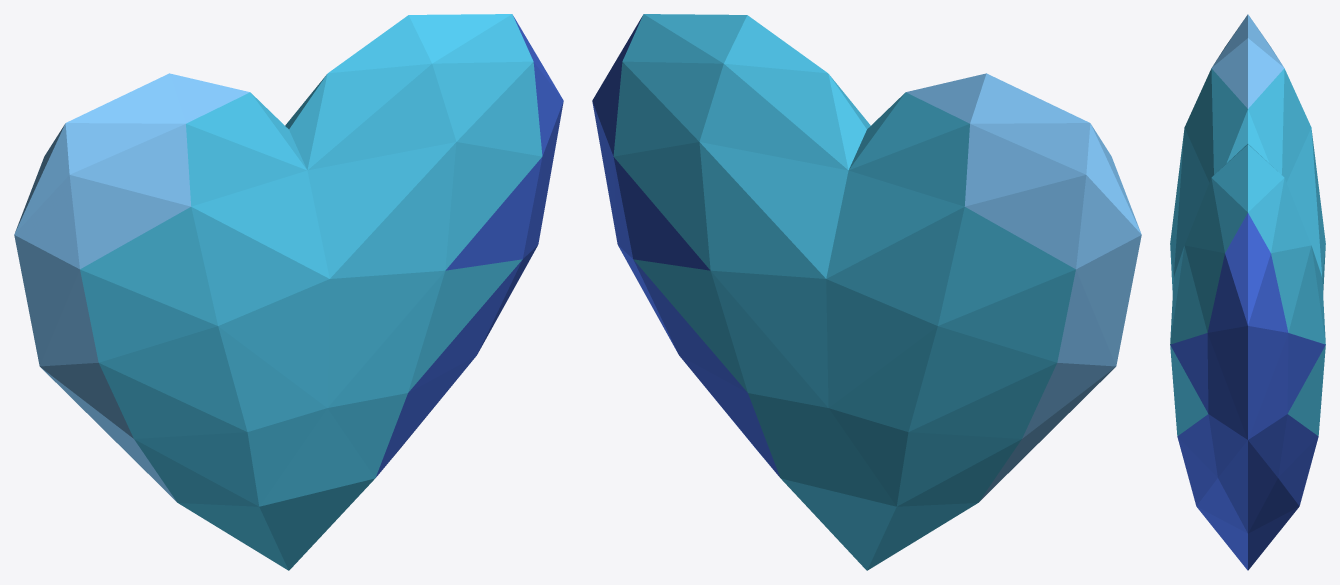
Rendered from blueheart.glb.
3 renders of one model, left to right at view 1: azimuth 30°, elevation 25°; view 2: azimuth 150°, elevation 25°; view 3: azimuth 270°, elevation 25°, orthographic. The views are drawn at different scales.
Parts seen in each view (by area): view 1: Cube; view 2: Cube; view 3: Cube.
Boxes of the visible parts, x1=… form: Cube: x1=14, y1=14, x2=563, y2=570; Cube: x1=592, y1=14, x2=1141, y2=570; Cube: x1=1170, y1=14, x2=1325, y2=570.
Size of the model in its own units: 2.15 by 1.97 by 0.58.
